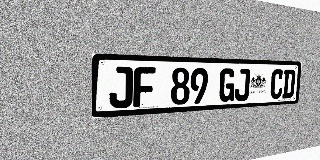8: (171, 67, 191, 105)
9: (190, 68, 209, 104)
C: (270, 69, 284, 99)
D: (282, 69, 296, 98)
F: (133, 67, 156, 107)
G: (218, 68, 236, 102)
J: (109, 66, 133, 109), (234, 69, 251, 101)
